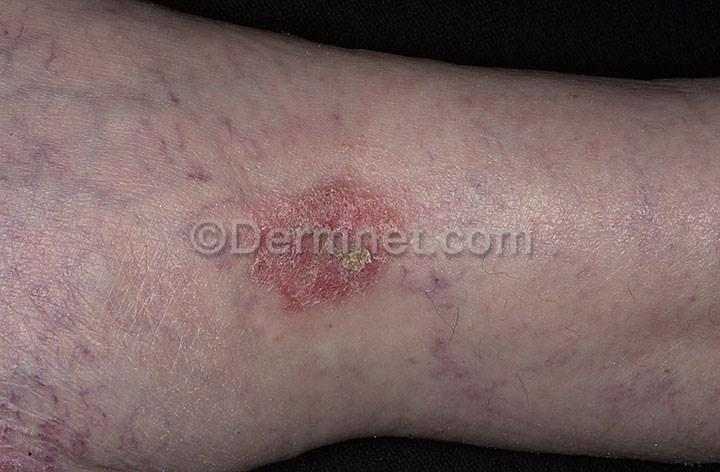Eczema: (246, 249, 424, 328), (240, 150, 409, 228)
